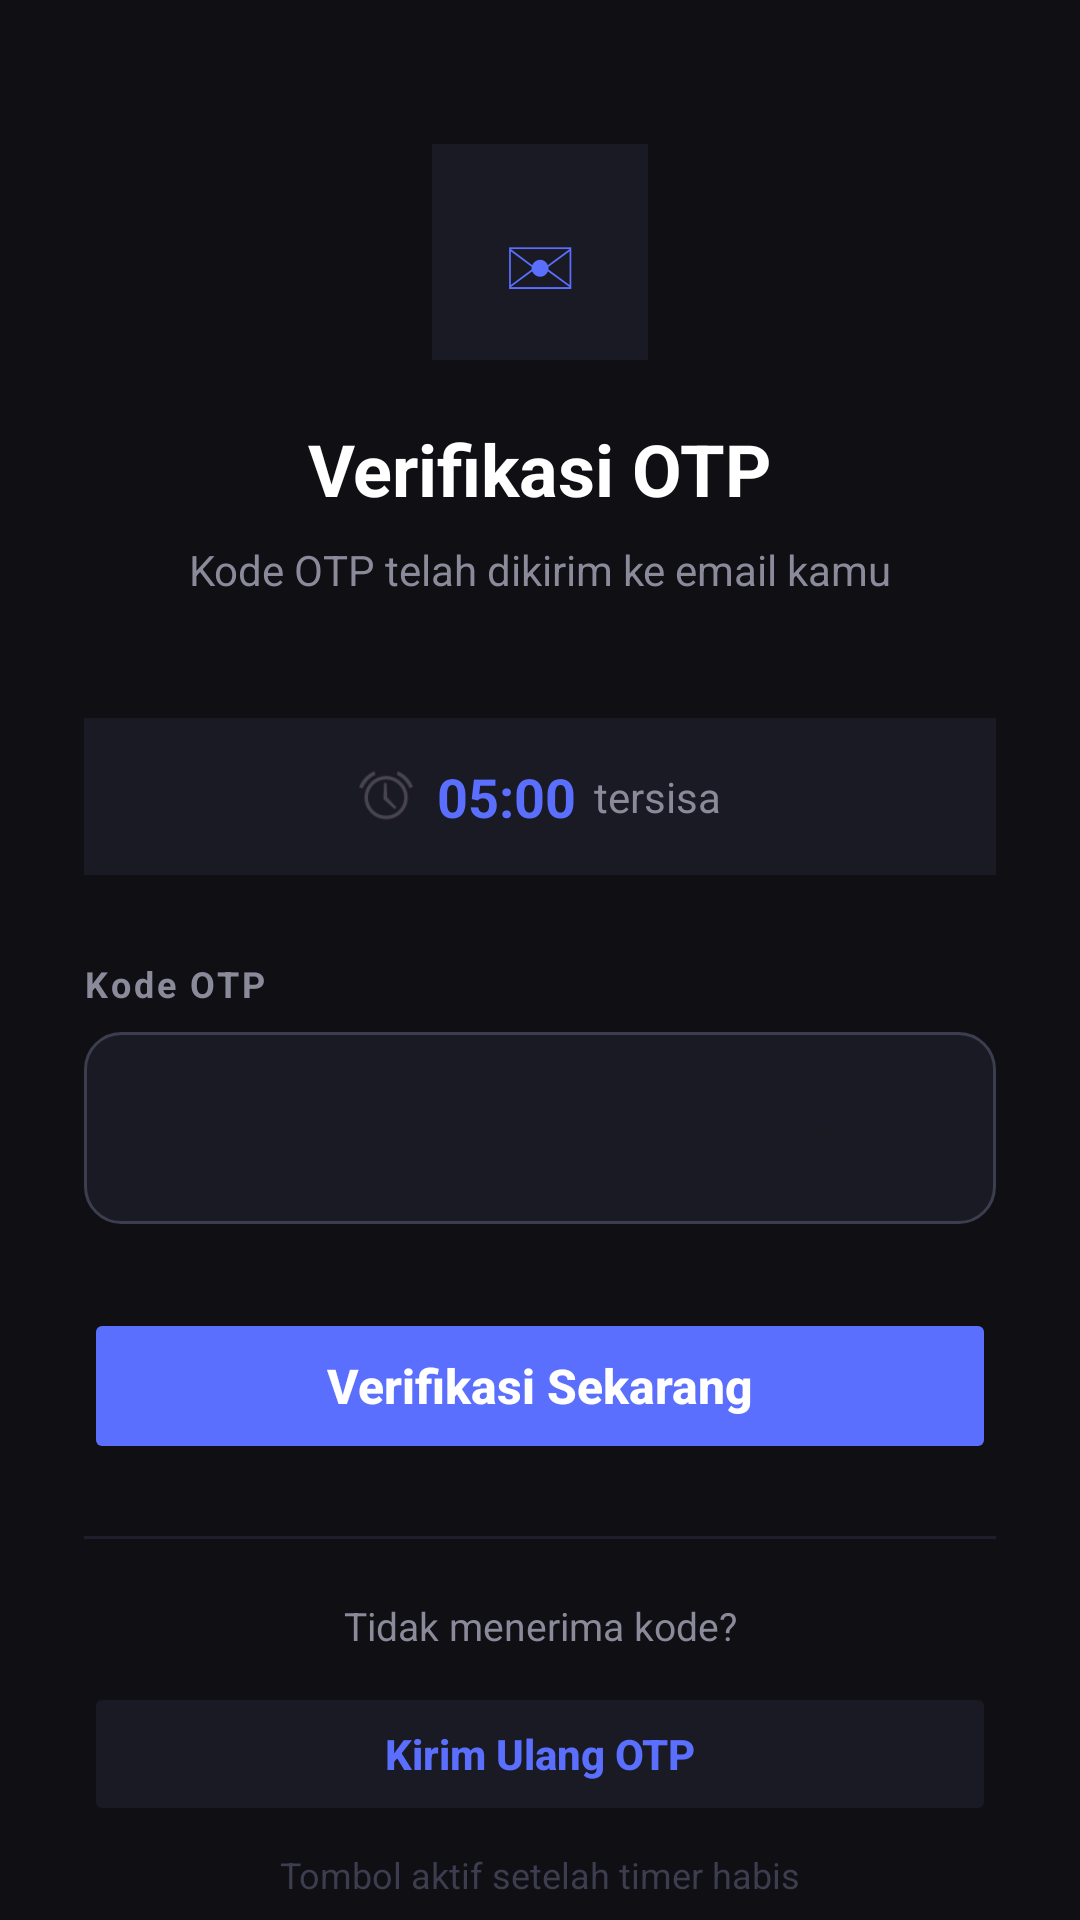

Icon bounding boxes for this 1080*1920 phone screenshot, format (x1, y1, x2, y2):
lock idle alarm: (359, 772, 413, 819)
